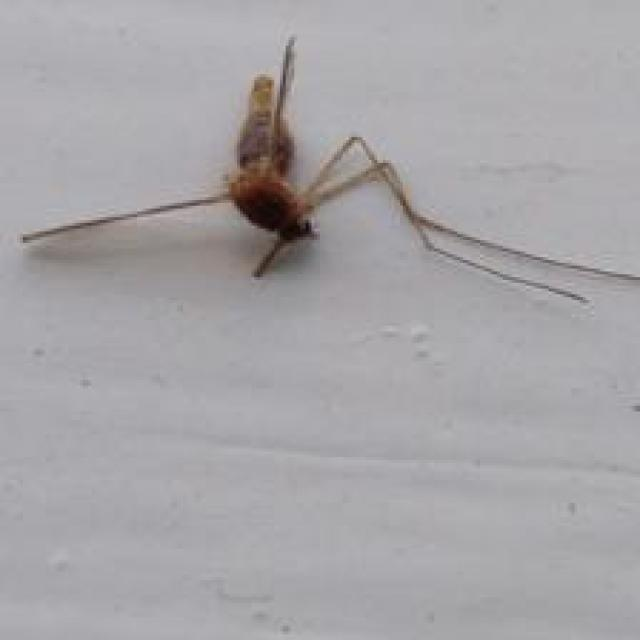Culex: (17, 34, 640, 309)
